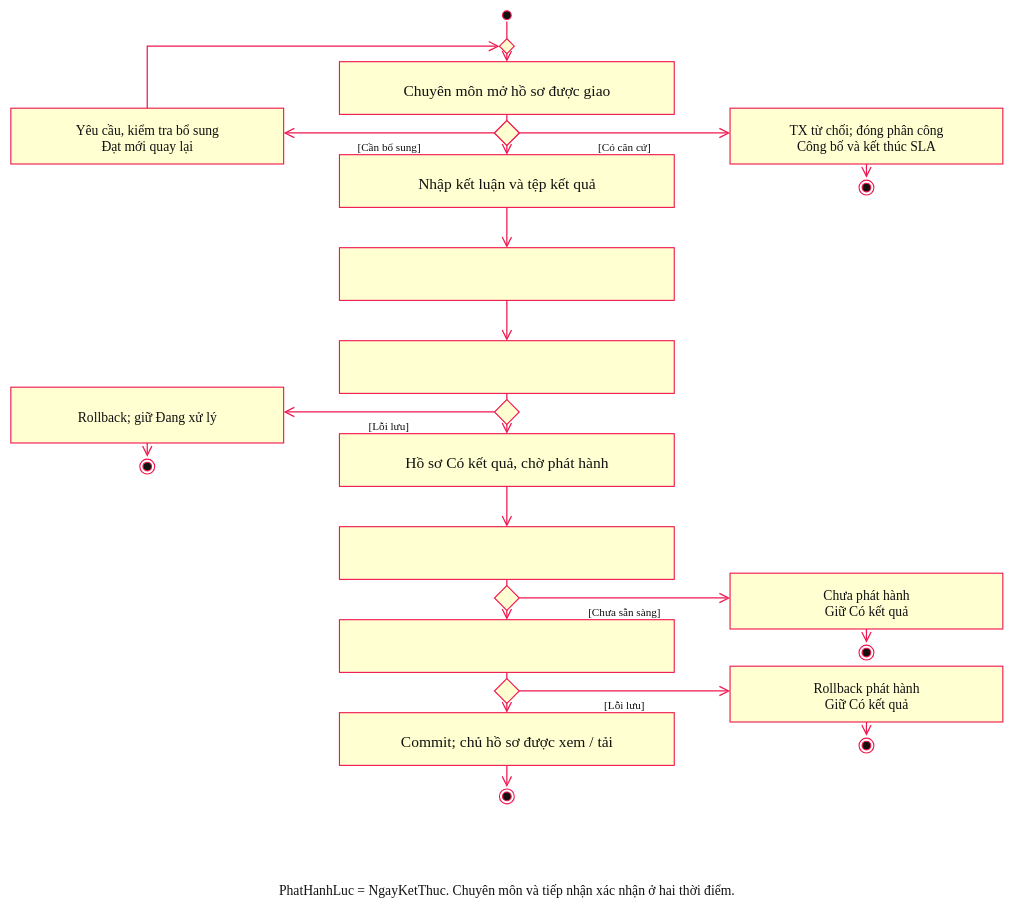
The diagram is 1014 pixels wide and 910 high, and some of its shapes have lost their labels. The centre of each missing label's shape, as x and y in pixels:
"Kiểm tra; chuyên môn xác nhận" belongs at [506,274].
"Tiếp nhận kiểm tra và xác nhận trả" belongs at [506,553].
"TX ghi kết quả và đóng phân công" belongs at [506,367].
"TX phát hành, kết thúc và lịch sử" belongs at [506,646].
